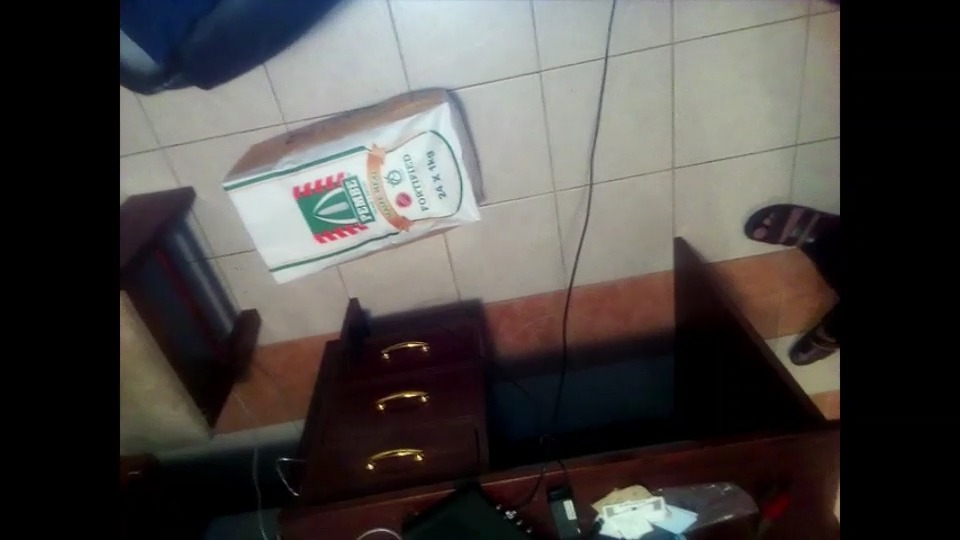maize_flour_green_label: (226, 90, 481, 279)
